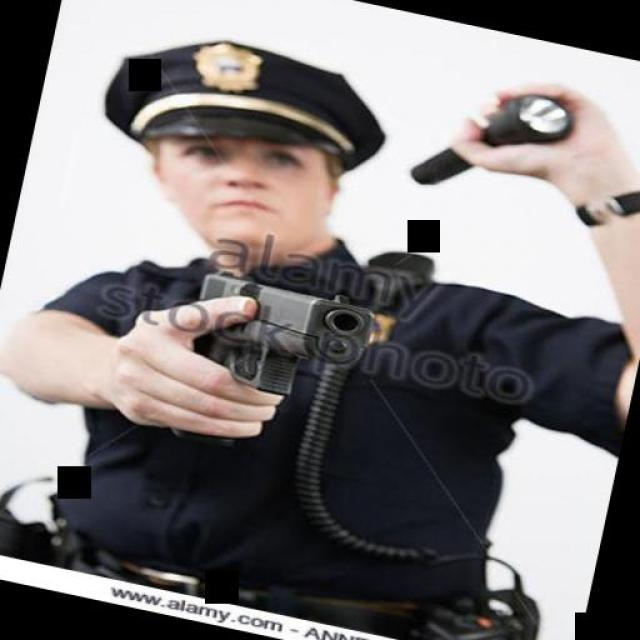gun: (159, 258, 380, 474)
